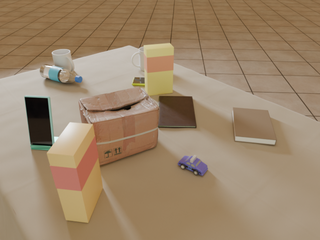book: (232, 108, 277, 145), (158, 96, 196, 128)
bottle: (40, 64, 82, 83)
box: (79, 87, 159, 165), (47, 123, 103, 223), (143, 43, 174, 96)
cup: (52, 49, 74, 72), (132, 47, 144, 71)
phone: (24, 96, 55, 147), (132, 77, 145, 85)
toy_car: (178, 155, 208, 176)
